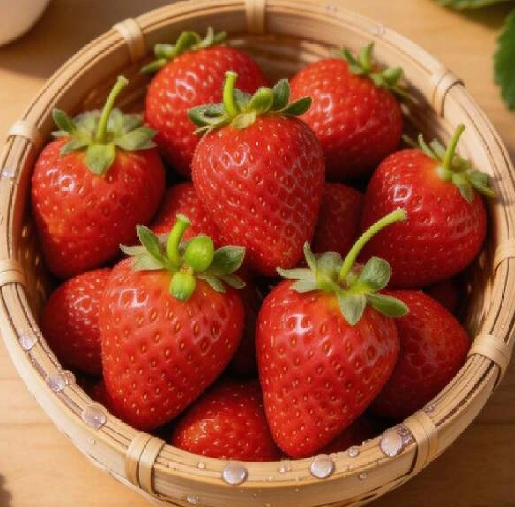Strawberry: (253, 267, 397, 455), (97, 238, 237, 427), (13, 94, 166, 262), (192, 110, 319, 259), (140, 47, 267, 164), (378, 148, 489, 271), (281, 54, 414, 151), (35, 256, 136, 355), (384, 287, 470, 401), (309, 165, 389, 266), (181, 390, 276, 467)
